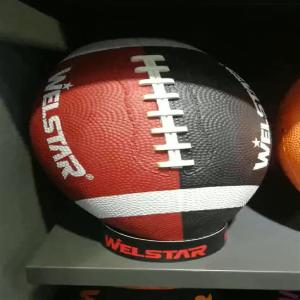Rugby: (27, 34, 275, 241)
